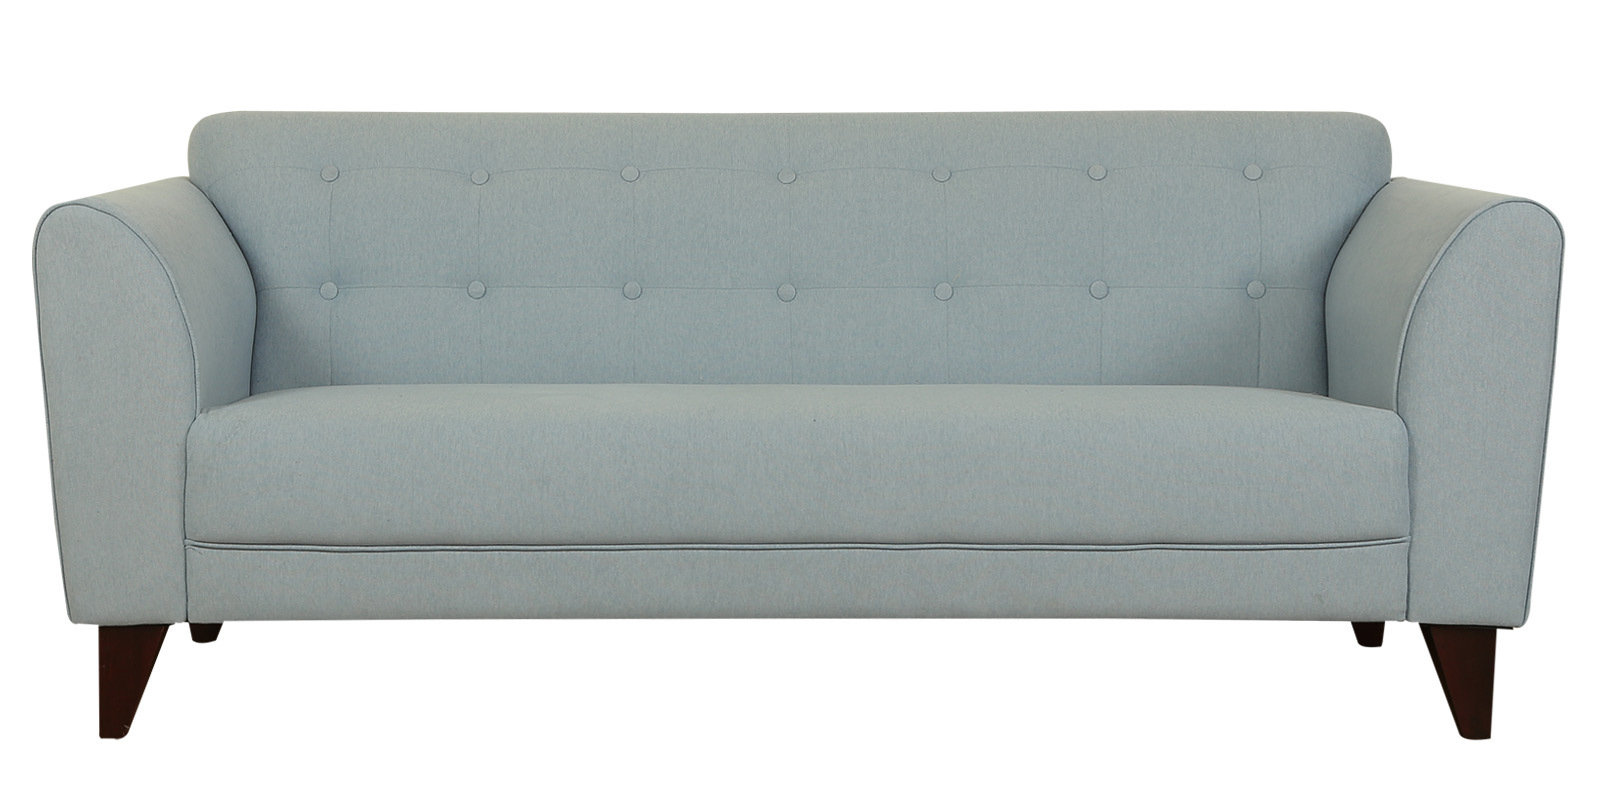Belem Three Seater Sofa in Ice Blue Color by CasaCraft: (24, 89, 1595, 658)
